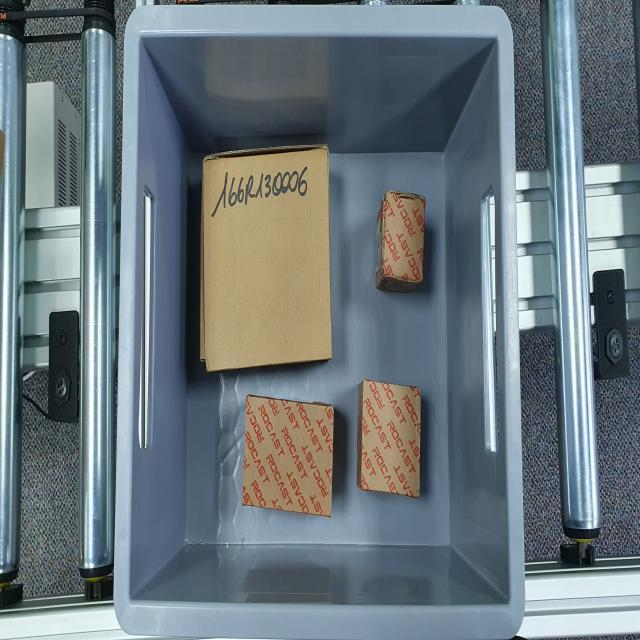box: (202, 146, 334, 372), (245, 394, 332, 524), (360, 381, 422, 498), (383, 192, 426, 286)
